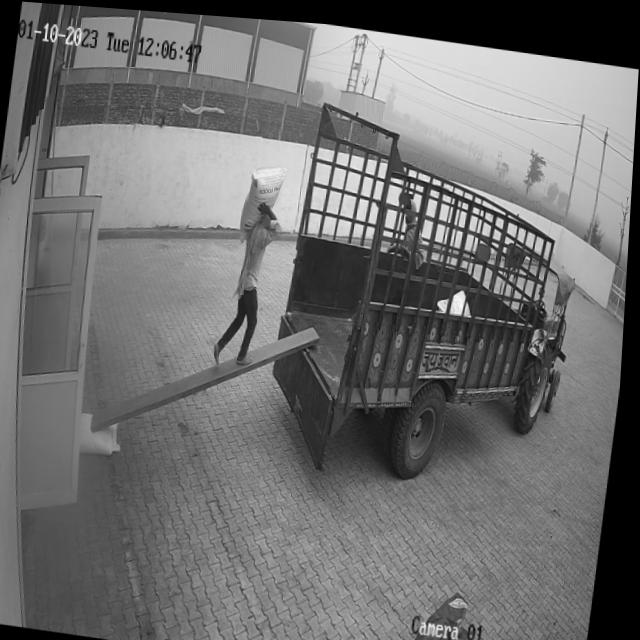sack: (240, 157, 289, 245), (81, 408, 128, 455)
